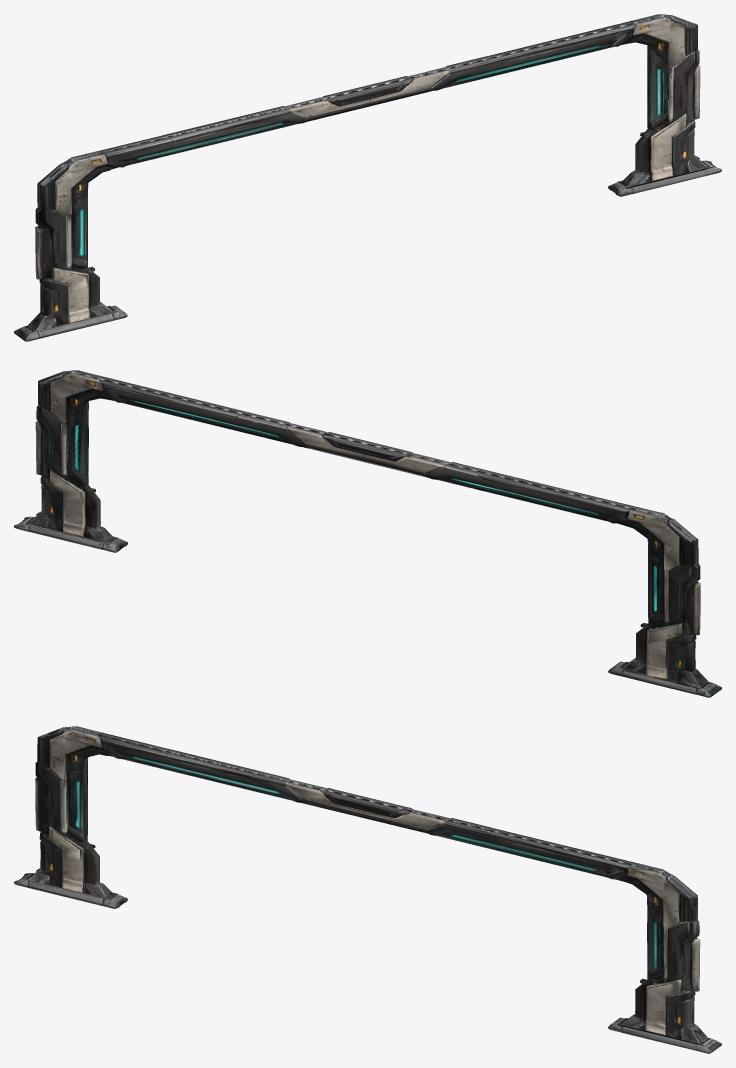
File: kairox-checkpoint-gantry.glb
3 renders of one model, top to bottom at view 1: azimuth 30°, elevation 25°; view 2: azimuth 150°, elevation 25°; view 3: azimuth 330°, elevation 25°, orthographic.
Visible parts, largest first — view 1: kairox-checkpoint-gantry; view 2: kairox-checkpoint-gantry; view 3: kairox-checkpoint-gantry.
Part boxes in pixels (left/top/right/bottom): kairox-checkpoint-gantry: left=14, top=14, right=721, bottom=341; kairox-checkpoint-gantry: left=14, top=370, right=721, bottom=697; kairox-checkpoint-gantry: left=14, top=726, right=721, bottom=1053.
Size of the model in its own units: 35 by 8 by 1.
Materials: 1 (1 with a texture image).
